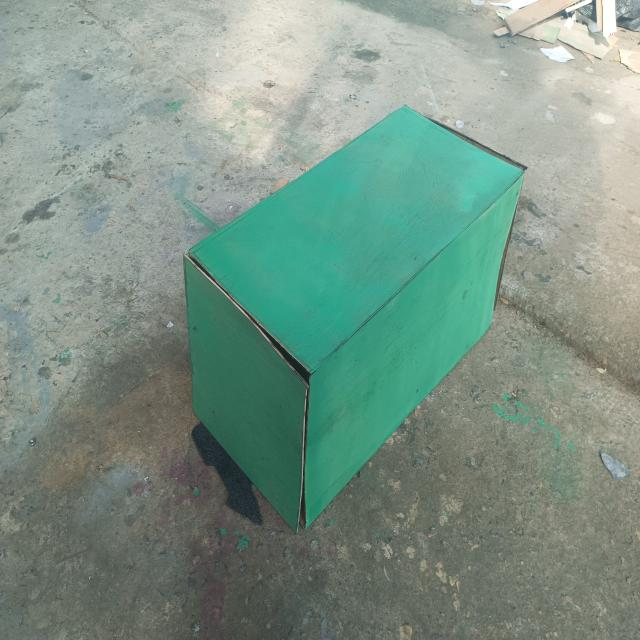green_box: (152, 95, 554, 554)
